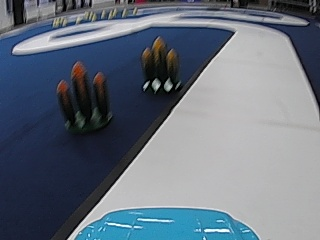corn: (59, 63, 112, 134), (140, 33, 179, 95)
